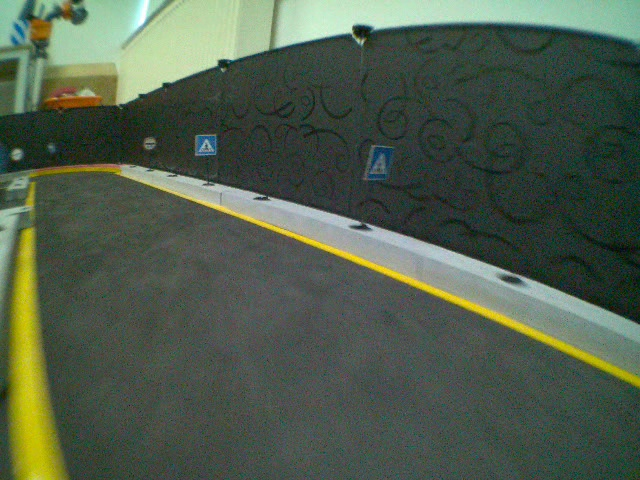Check: (143, 136, 157, 152)
crossing: (362, 144, 395, 178), (195, 132, 218, 156)
